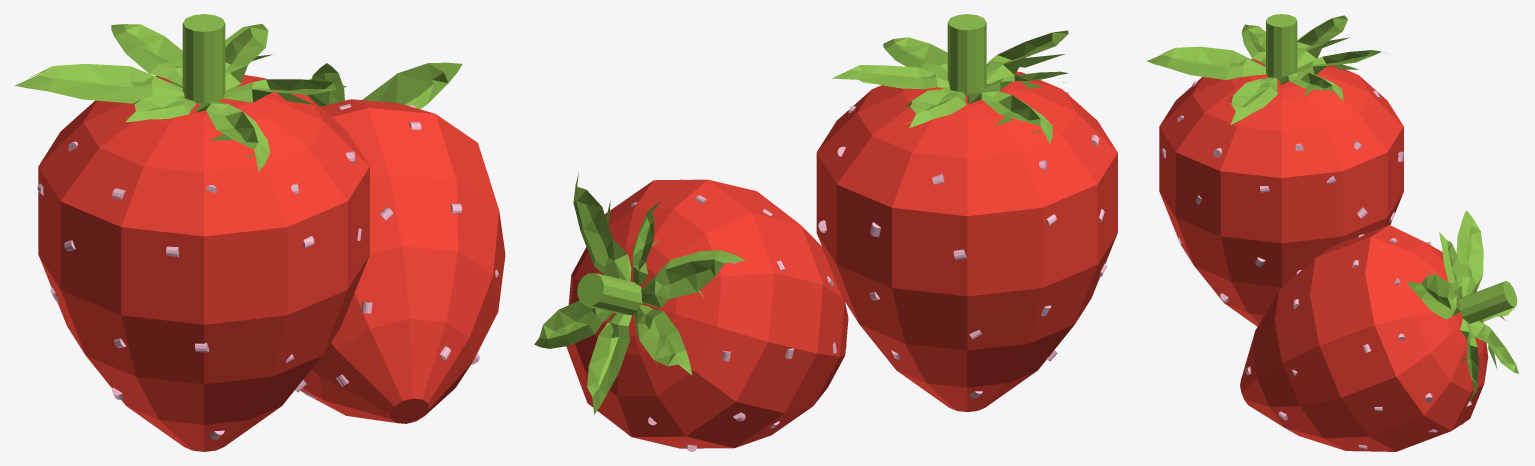
File: strawberries.glb
3 renders of one model, left to right at view 1: azimuth 30°, elevation 25°; view 2: azimuth 150°, elevation 25°; view 3: azimuth 270°, elevation 25°, orthographic. The views are drawn at different scales.
Visible parts, largest first — view 1: Node; view 2: Node; view 3: Node.
Part boxes in pixels (x1=…): Node: x1=15, y1=14, x2=505, y2=451; Node: x1=534, y1=14, x2=1117, y2=451; Node: x1=1147, y1=14, x2=1518, y2=451.
Bounding box in the file's own units: 0.9513 × 0.8459 × 0.833.
